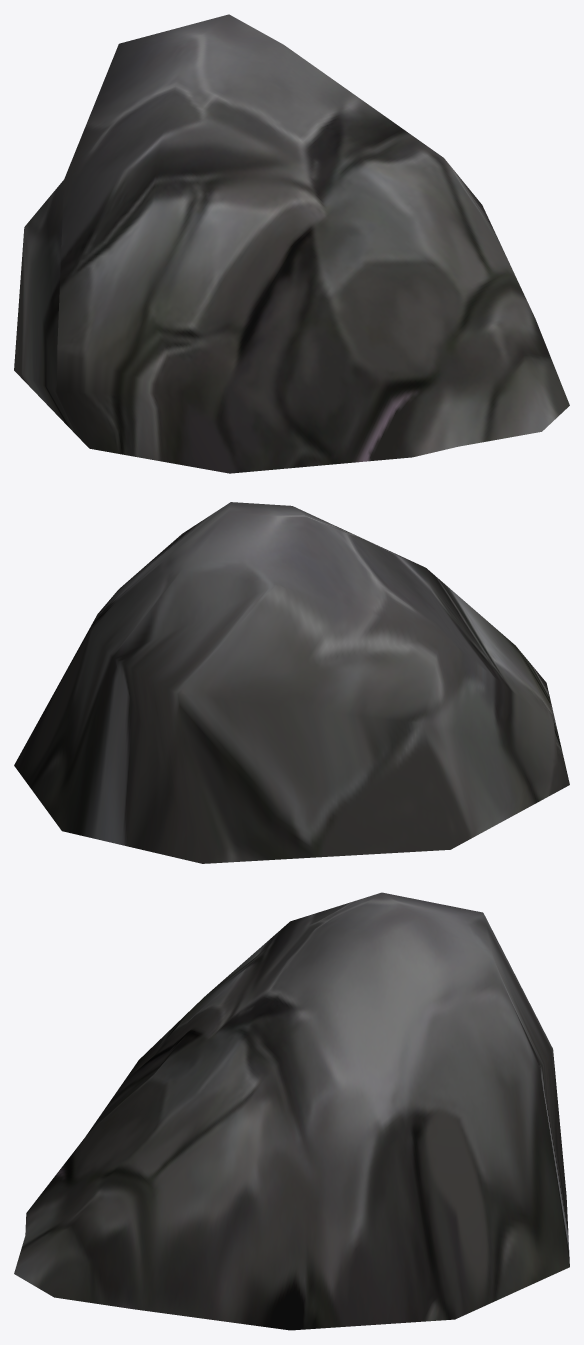
Rendered from fanasty_mod_sml_stone02.fbx.
3 renders of one model, top to bottom at view 1: azimuth 30°, elevation 25°; view 2: azimuth 150°, elevation 25°; view 3: azimuth 270°, elevation 25°, orthographic. The views are drawn at different scales.
Visible parts, largest first — view 1: sml_stone_02; view 2: sml_stone_02; view 3: sml_stone_02.
Boxes of the visible parts, x1,y1,x2,y2 form: sml_stone_02: (14,14,569,473); sml_stone_02: (14,502,569,863); sml_stone_02: (14,892,569,1330).
Size of the model in its own units: 0.986 by 0.5819 by 0.9759.
